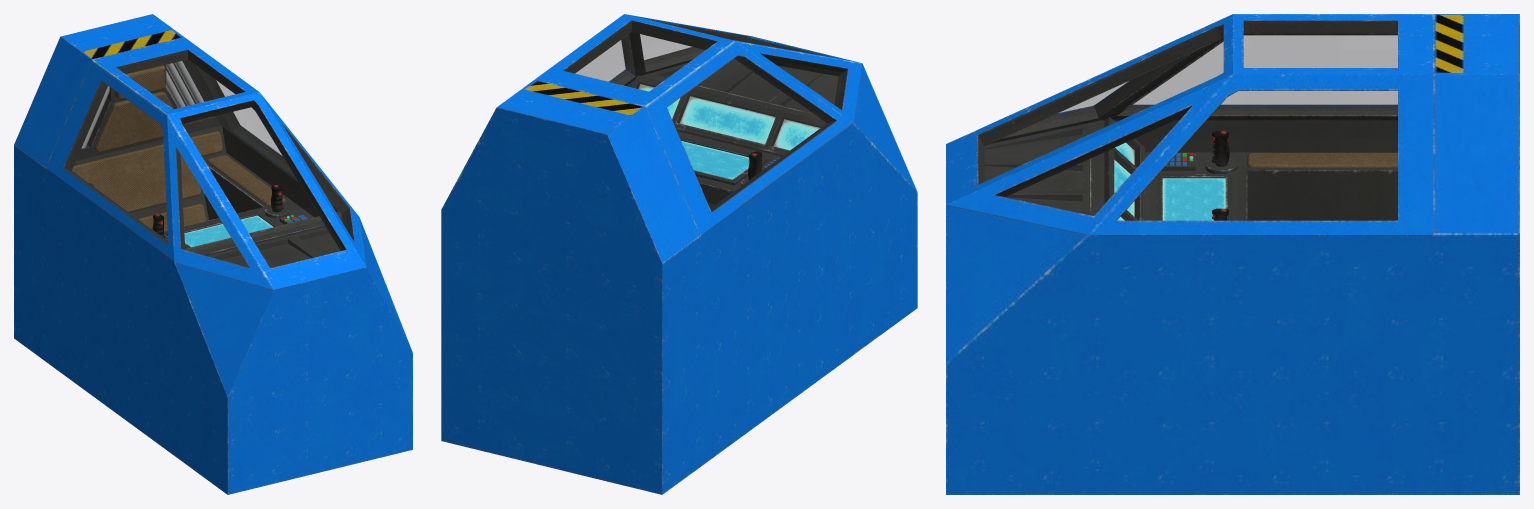
The model's file is cockpit.glb.
The picture shows the model from 3 angles, left to right: view 1: azimuth 30°, elevation 25°; view 2: azimuth 150°, elevation 25°; view 3: azimuth 270°, elevation 25°; orthographic projection. The views are drawn at different scales.
Visible parts, largest first — view 1: Body, CanopyGlass, CanopyFrame, Back_2, Neck, ArmRestL, Headrest, Back_1, LowerPipe; view 2: Body, CanopyFrame, CanopyGlass; view 3: Body, CanopyGlass, CanopyFrame, ArmRestR.
Part boxes in pixels (x1,y1,x2,y2): Body: (14, 14, 412, 494); CanopyGlass: (68, 55, 348, 267); CanopyFrame: (46, 37, 366, 289); Back_2: (72, 131, 222, 212); Neck: (94, 91, 173, 152); ArmRestL: (207, 155, 285, 205); Headrest: (114, 65, 165, 100); Back_1: (138, 204, 206, 231); LowerPipe: (81, 71, 185, 148); Body: (441, 59, 917, 494); CanopyFrame: (535, 14, 862, 234); CanopyGlass: (570, 26, 842, 209); Body: (946, 14, 1519, 494); CanopyGlass: (981, 27, 1397, 219); CanopyFrame: (946, 14, 1433, 234); ArmRestR: (1247, 153, 1397, 167).
Size of the model in its own units: 1 by 1.5 by 2.
11 materials, 11 textured.
